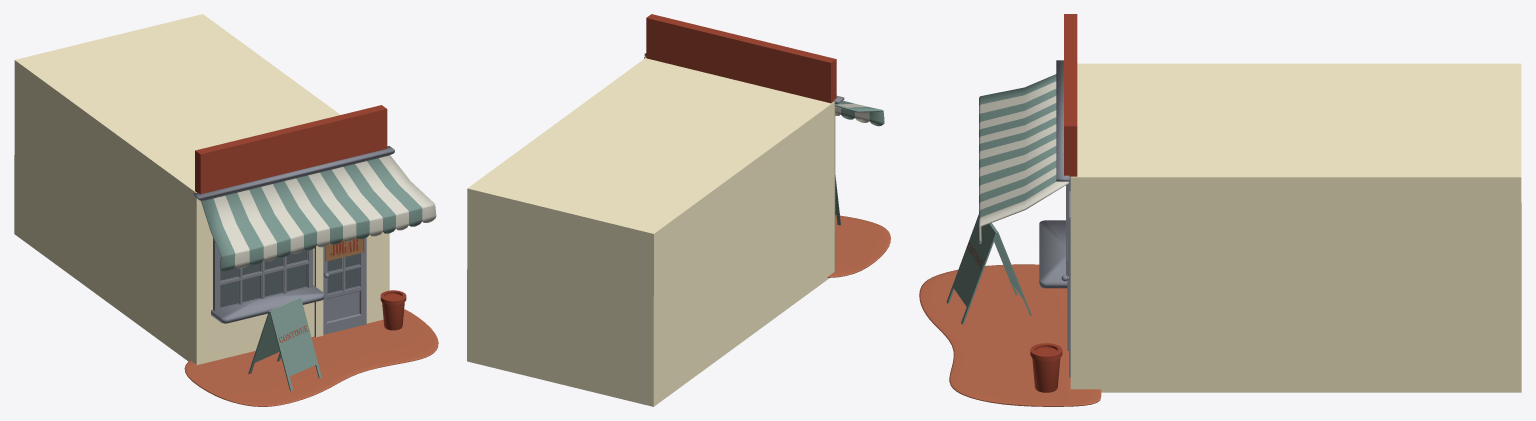
File: MDL_Store.fbx
The picture shows the model from 3 angles, left to right: view 1: azimuth 30°, elevation 25°; view 2: azimuth 150°, elevation 25°; view 3: azimuth 270°, elevation 25°; orthographic projection. The views are drawn at different scales.
Parts seen in each view (by area): view 1: SM_WallInside, SM_Wall, SM_Door, SM_Outdoor_Vase; view 2: SM_WallInside, SM_Wall; view 3: SM_WallInside, SM_Wall, SM_Outdoor_Vase.
Boxes of the visible parts, bbox=[...] form: SM_WallInside: bbox=[14, 14, 340, 364]; SM_Wall: bbox=[184, 105, 438, 406]; SM_Door: bbox=[323, 237, 366, 334]; SM_Outdoor_Vase: bbox=[380, 290, 406, 330]; SM_WallInside: bbox=[467, 58, 834, 406]; SM_Wall: bbox=[644, 14, 890, 277]; SM_WallInside: bbox=[1070, 63, 1521, 392]; SM_Wall: bbox=[919, 14, 1101, 406]; SM_Outdoor_Vase: bbox=[1030, 343, 1062, 392].
Bounding box in the file's own units: 445 × 390 × 801.
